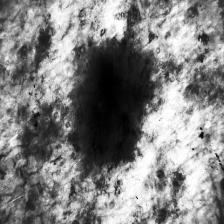Benign Marking or Mole: (88, 48, 148, 162)
